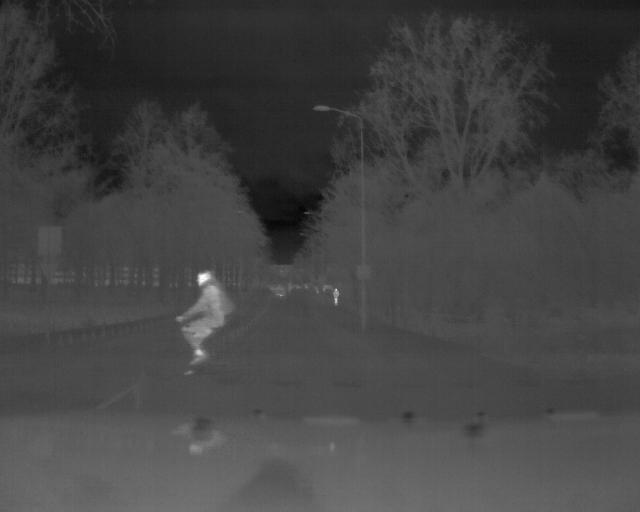person: (182, 270, 230, 363), (332, 287, 340, 305)
